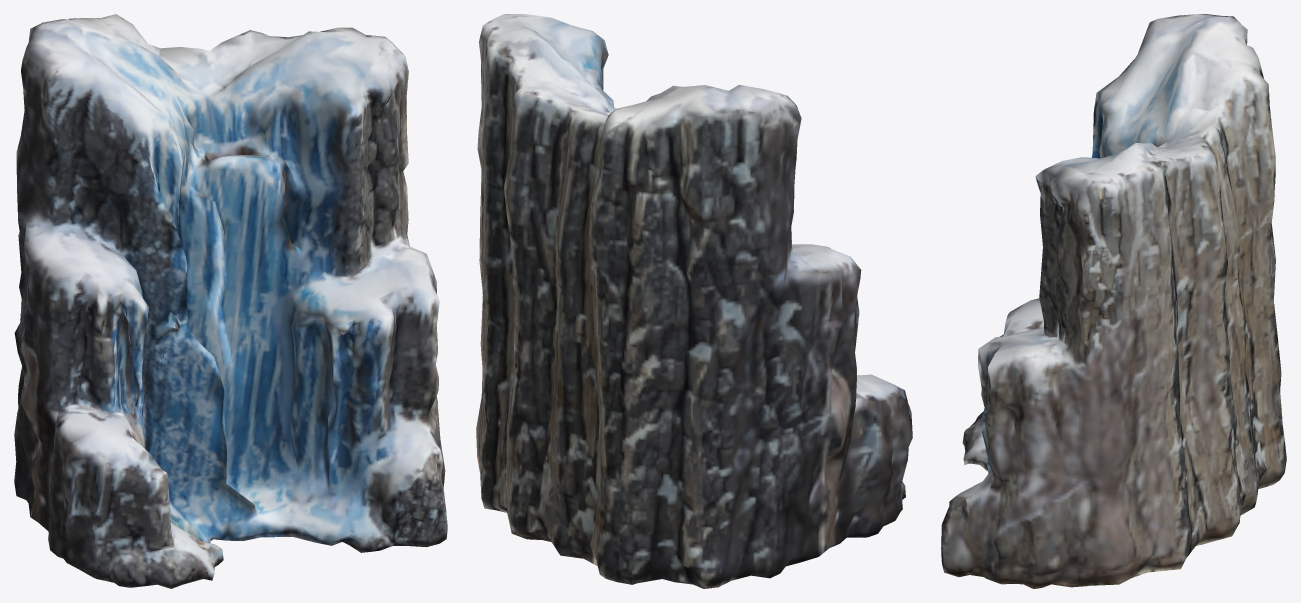
The model's file is ThirdRoom_CliffPillar.fbx.
The picture shows the model from 3 angles, left to right: view 1: azimuth 30°, elevation 25°; view 2: azimuth 150°, elevation 25°; view 3: azimuth 270°, elevation 25°; orthographic projection. The views are drawn at different scales.
Visible parts, largest first — view 1: ThirdRoom_CliffPillar_Mesh; view 2: ThirdRoom_CliffPillar_Mesh; view 3: ThirdRoom_CliffPillar_Mesh.
Boxes of the visible parts, x1=… form: ThirdRoom_CliffPillar_Mesh: x1=14, y1=14, x2=447, y2=588; ThirdRoom_CliffPillar_Mesh: x1=476, y1=14, x2=912, y2=588; ThirdRoom_CliffPillar_Mesh: x1=941, y1=14, x2=1286, y2=588.
Bounding box in the file's own units: 4.89 × 6 × 4.17.
1 material, 1 textured.
